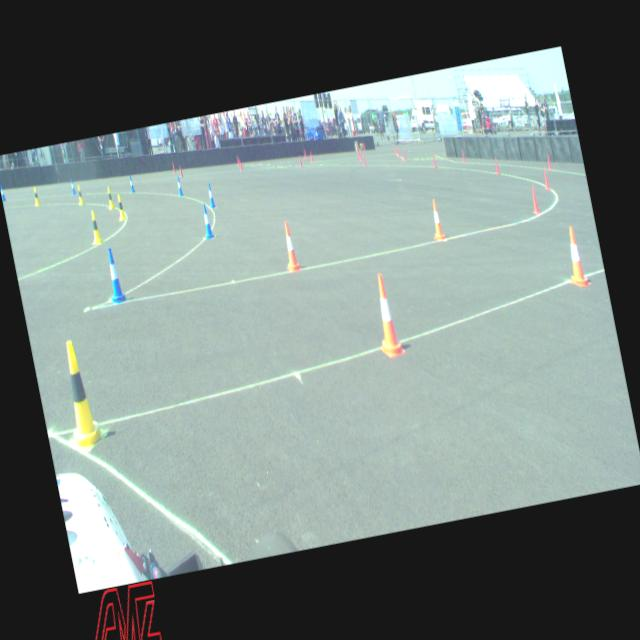blue_cone: (101, 246, 128, 303), (200, 202, 214, 240), (206, 182, 217, 208), (128, 174, 136, 194), (176, 176, 184, 196), (0, 183, 6, 201), (70, 177, 76, 195)
orange_cone: (367, 272, 406, 360), (560, 225, 590, 289), (280, 220, 302, 272), (427, 198, 446, 242)
unknown_cone: (528, 183, 540, 216), (540, 166, 550, 191), (494, 157, 501, 176), (546, 154, 552, 170), (178, 165, 184, 178), (461, 148, 466, 163), (238, 158, 242, 172), (432, 154, 436, 168), (362, 152, 366, 166), (356, 147, 361, 158), (236, 154, 240, 167), (402, 149, 406, 162), (392, 144, 397, 154), (298, 156, 302, 168), (358, 150, 362, 162), (303, 149, 307, 160), (172, 162, 176, 173), (310, 151, 314, 162), (397, 148, 401, 158)
yellow_cone: (54, 336, 108, 452), (87, 208, 103, 244), (115, 192, 126, 222), (106, 187, 116, 210), (76, 183, 84, 206), (31, 186, 40, 206)
